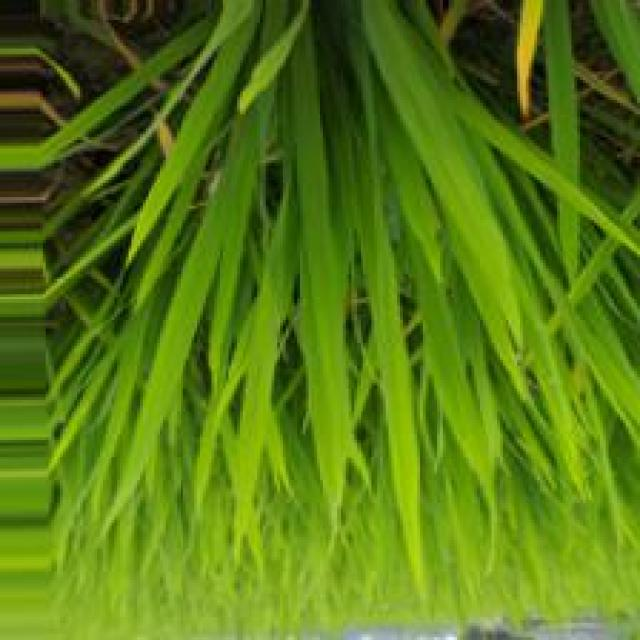HealthyLeaf: (390, 61, 496, 226), (161, 223, 221, 351), (418, 260, 469, 401), (300, 144, 336, 306)
